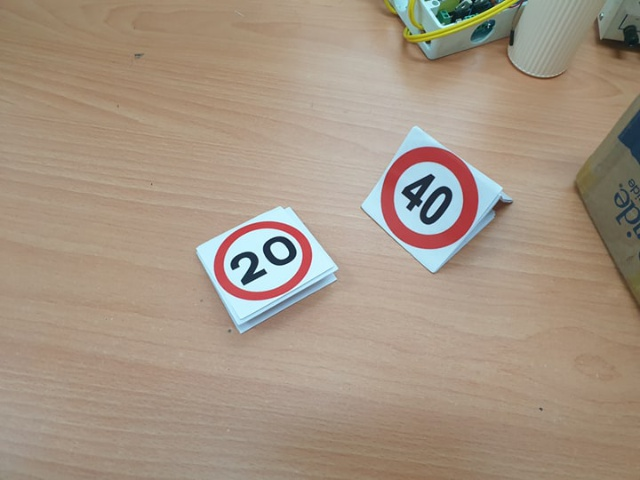Limit 20: (209, 226, 315, 298)
Limit 40: (381, 147, 479, 247)
